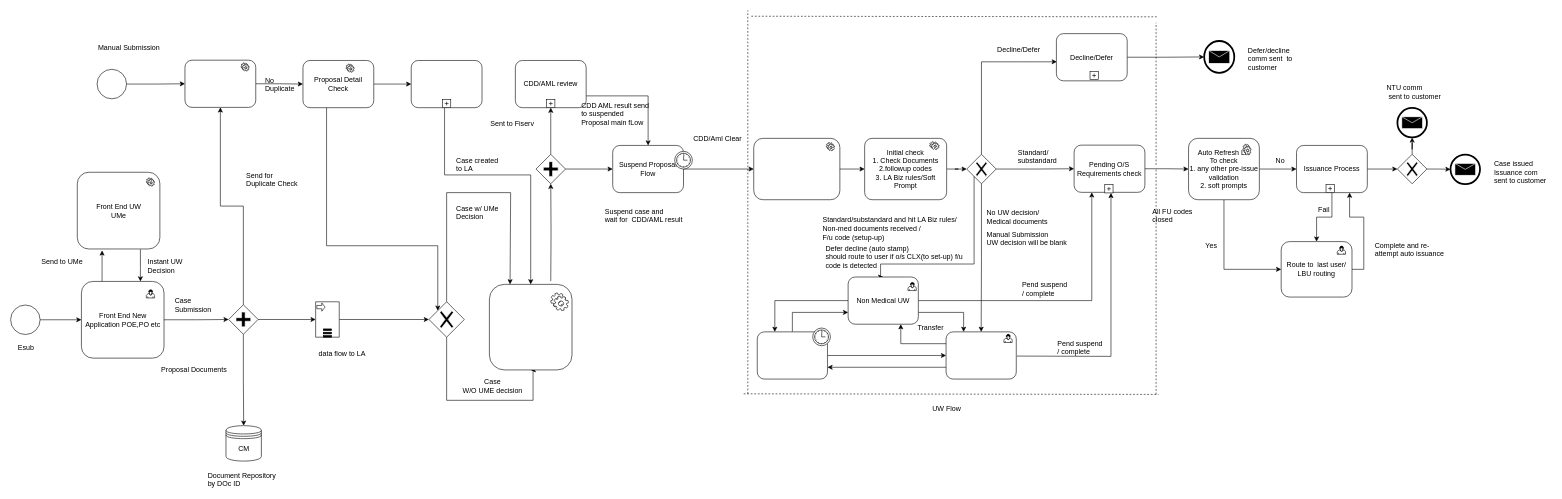
Some shapes in this 1562 by 499 pixel diagram are drawn without their labels. The box of each missing label's shape, as (x1, y1, x2, y2) in pixels:
1. MAgnum Call 2. Stamp decision base on UMe/Magnum: (753, 138, 840, 200)
DEDV: (411, 60, 482, 108)
Duplicate Check: (184, 60, 256, 107)
LA: (489, 284, 572, 370)
Medical UW: (945, 331, 1016, 379)
Temp Suspend by users/ once wu go to last user: (757, 331, 827, 379)
